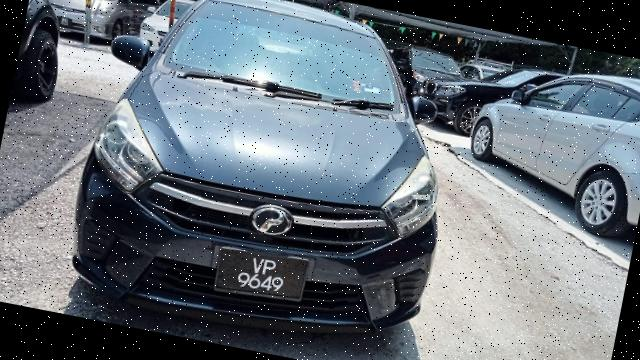License_Plate: (220, 247, 302, 305)
